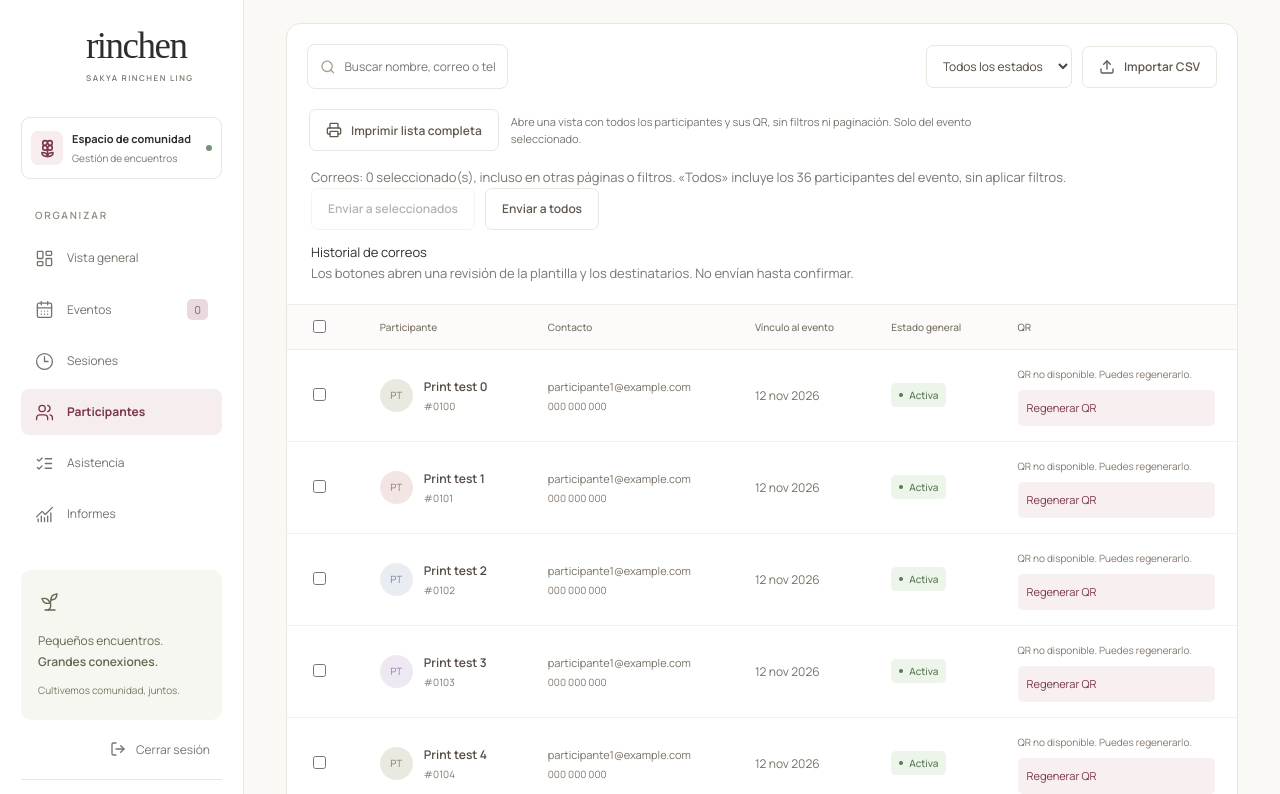
Test case: changes participants per page, preserves mail selection and resets navigation when the size changes
(page scrolled)
Click the checkbox named "Seleccionar a Print test 0 para correo" at (320, 394), box [313, 388, 326, 400]
(page scrolled)
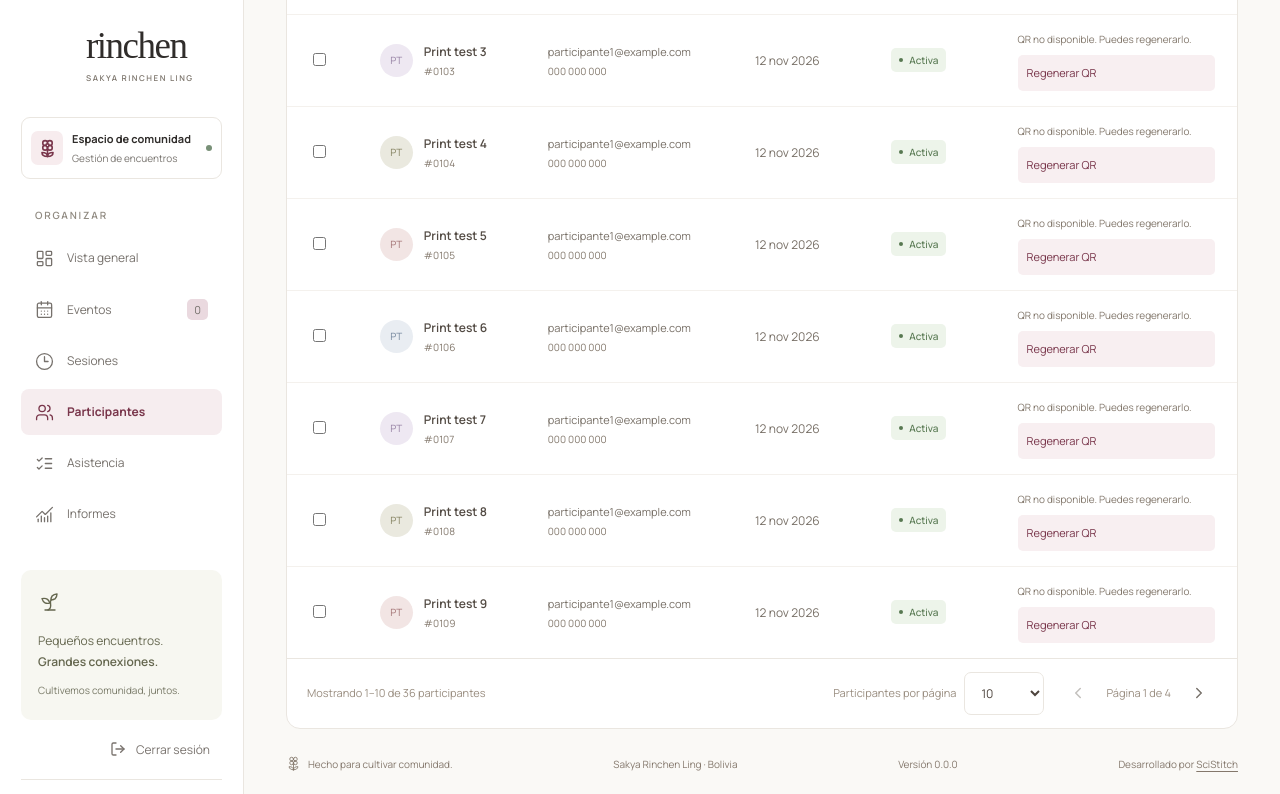
Click the button named "Página siguiente" at (1199, 693), box [1181, 675, 1217, 711]
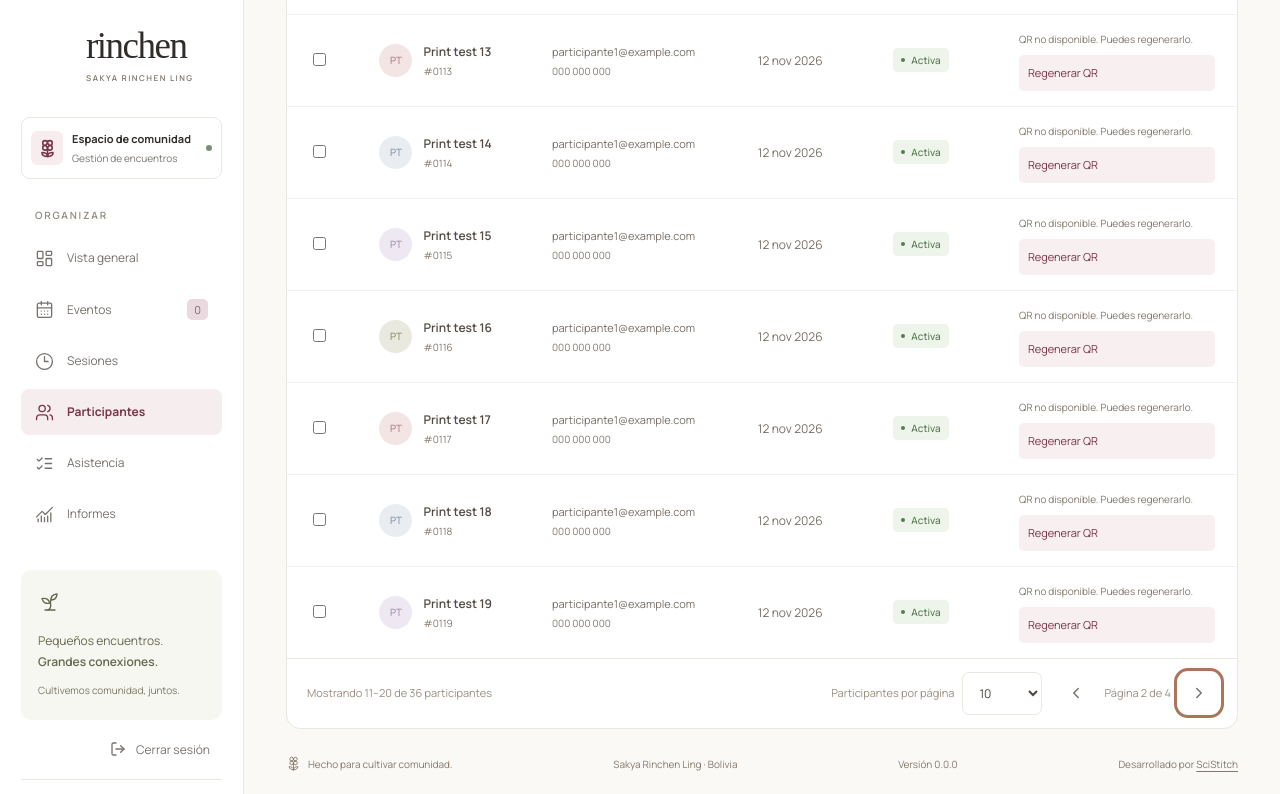
Result: the text "Página 2 de 4" is shown at [1104, 684, 1171, 702]
Select "25" in the dropdown labelled "Participantes por página" at (1002, 693), box [962, 672, 1042, 715]
(page scrolled)
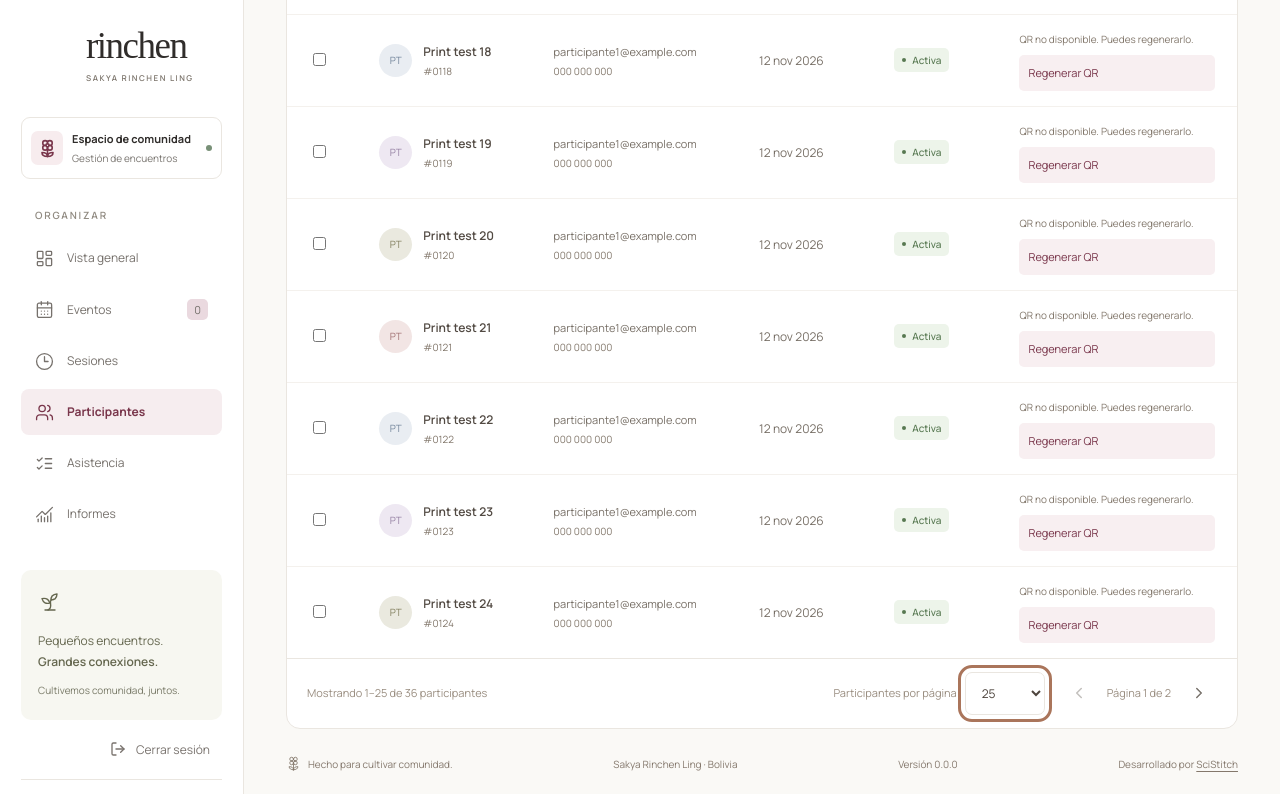
Result: the text "Página 1 de 2" is shown at [1107, 684, 1171, 702]
Click the button named "Página siguiente" at (1199, 693), box [1181, 675, 1217, 711]
(page scrolled)
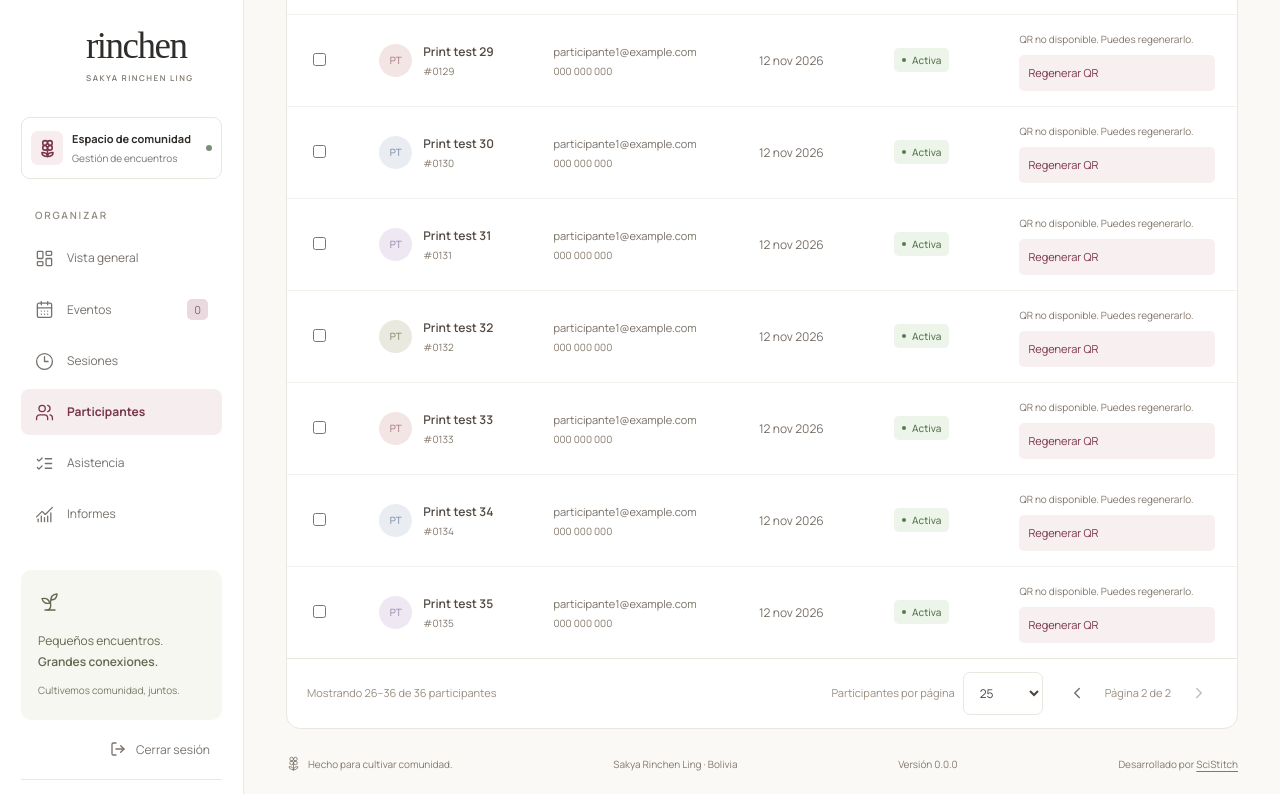
Result: the text "Mostrando 26–36 de 36 participantes" is shown at [307, 684, 496, 702]
Select "Todos" in the dropdown labelled "Participantes por página" at (1003, 693), box [963, 672, 1043, 715]
(page scrolled)
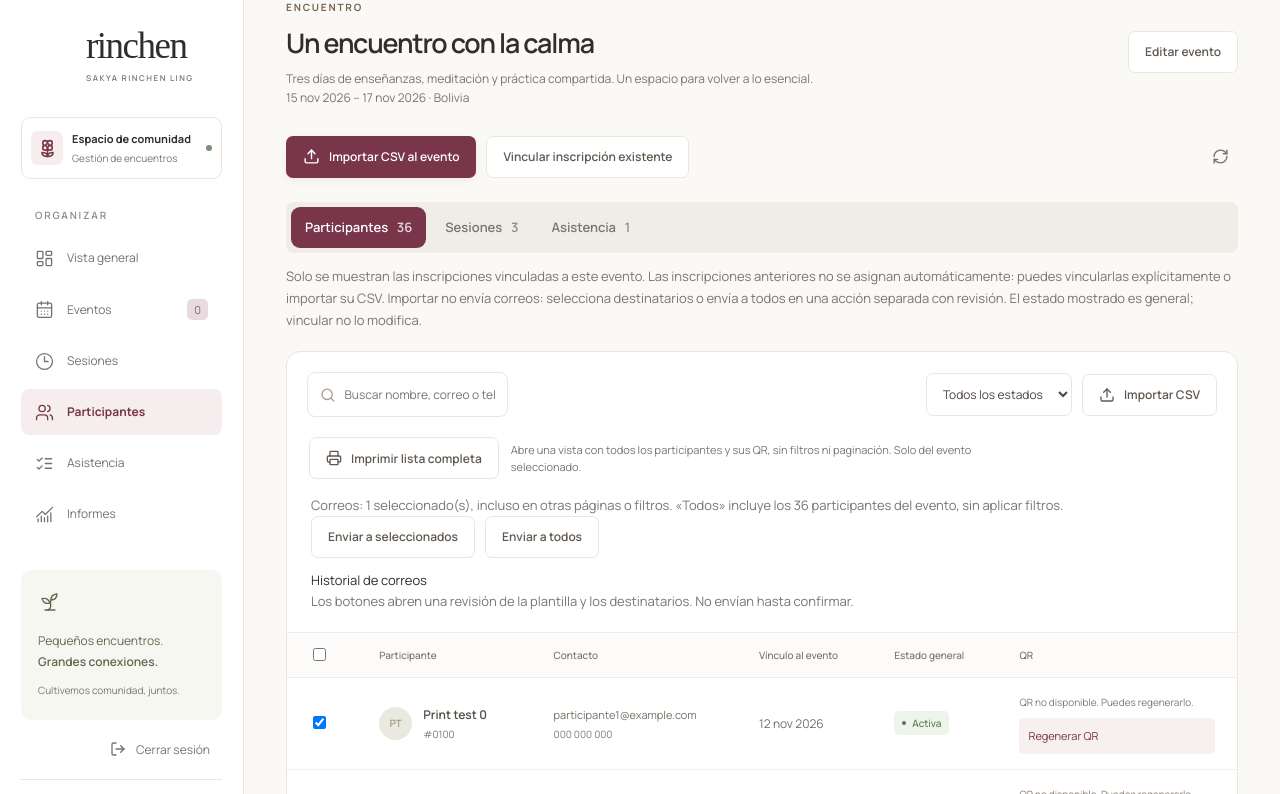
Result: the number of rows is 37
Type "no matches" into the field labelled "Buscar nombre, correo o teléfono…" at (420, 395), box [344, 373, 495, 416]
(page scrolled)
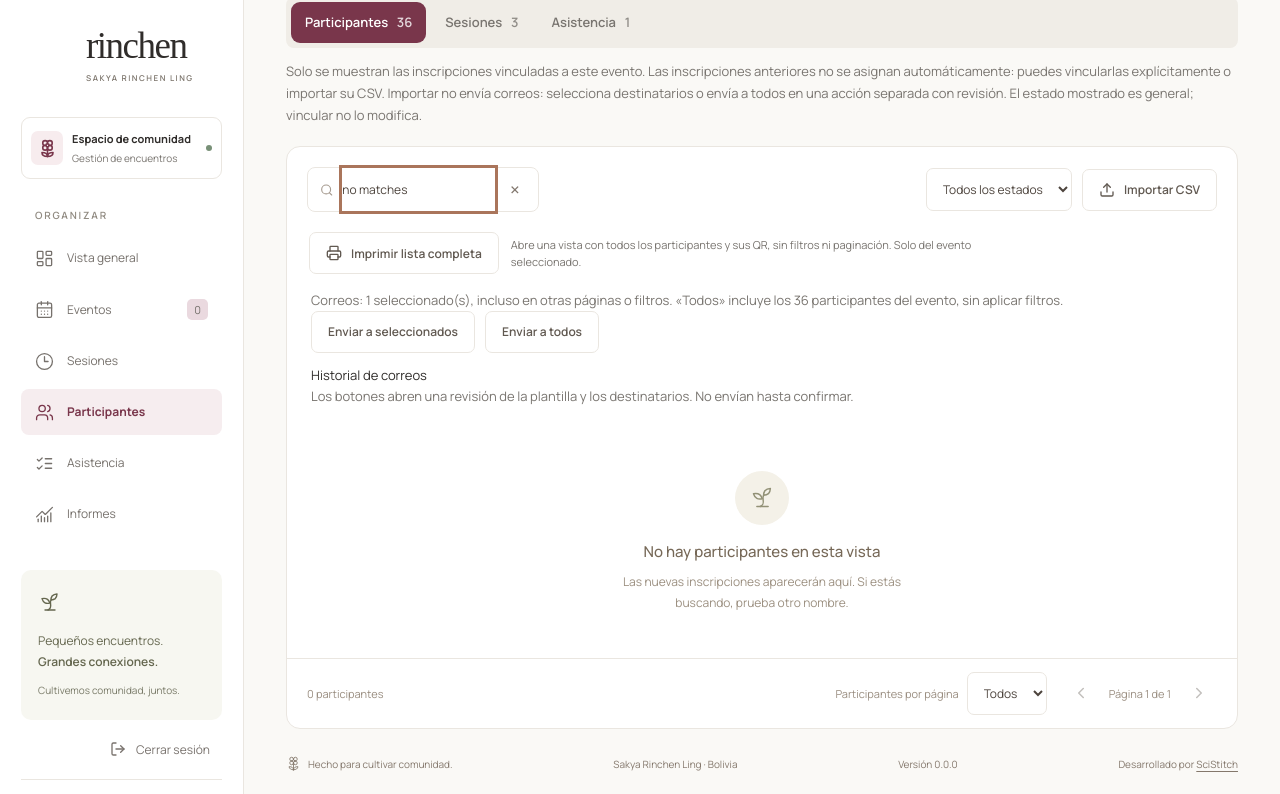
Result: the button named "Página anterior" is disabled at [1063, 675, 1099, 711]
Result: the text "0 participantes" is shown at [307, 684, 384, 702]
